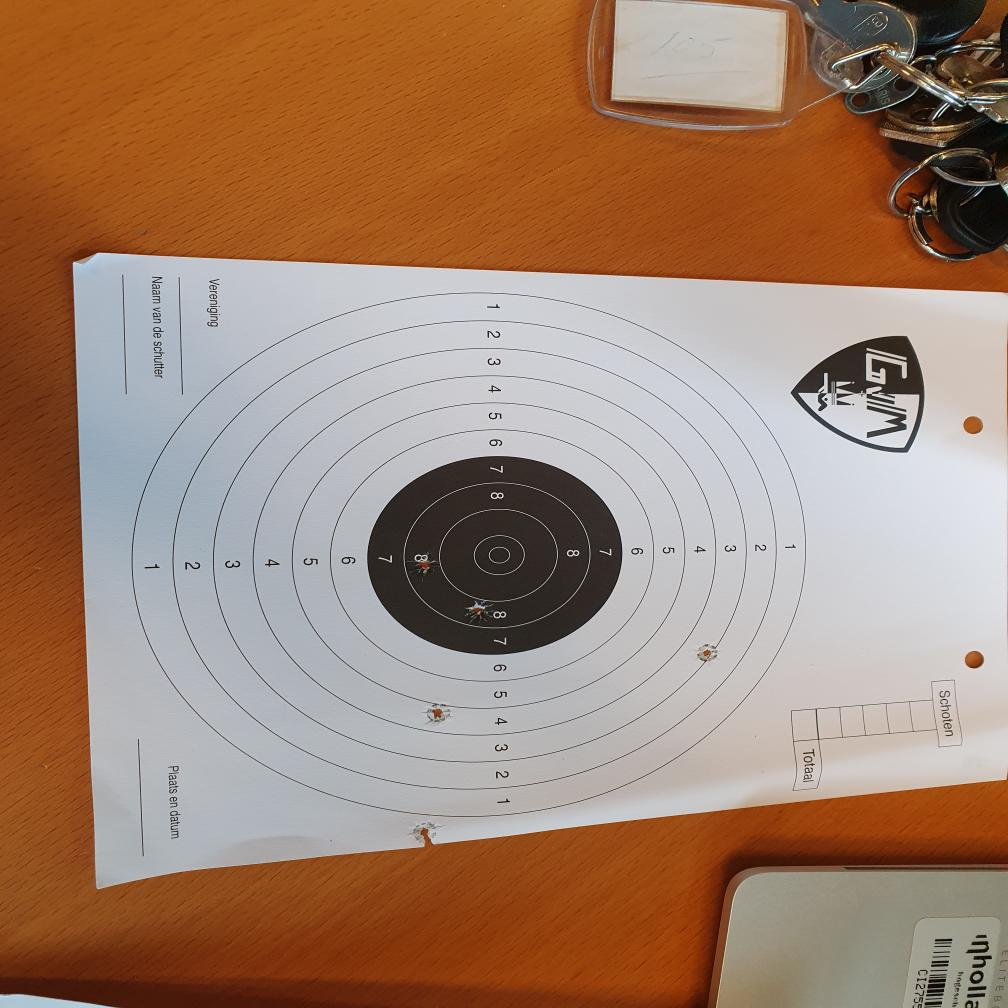0: (409, 818, 444, 847)
3: (694, 641, 721, 664)
5: (422, 702, 456, 728)
8: (407, 553, 441, 580), (464, 600, 494, 625)
Target: (130, 294, 802, 817)
black_contour: (370, 456, 623, 654)
